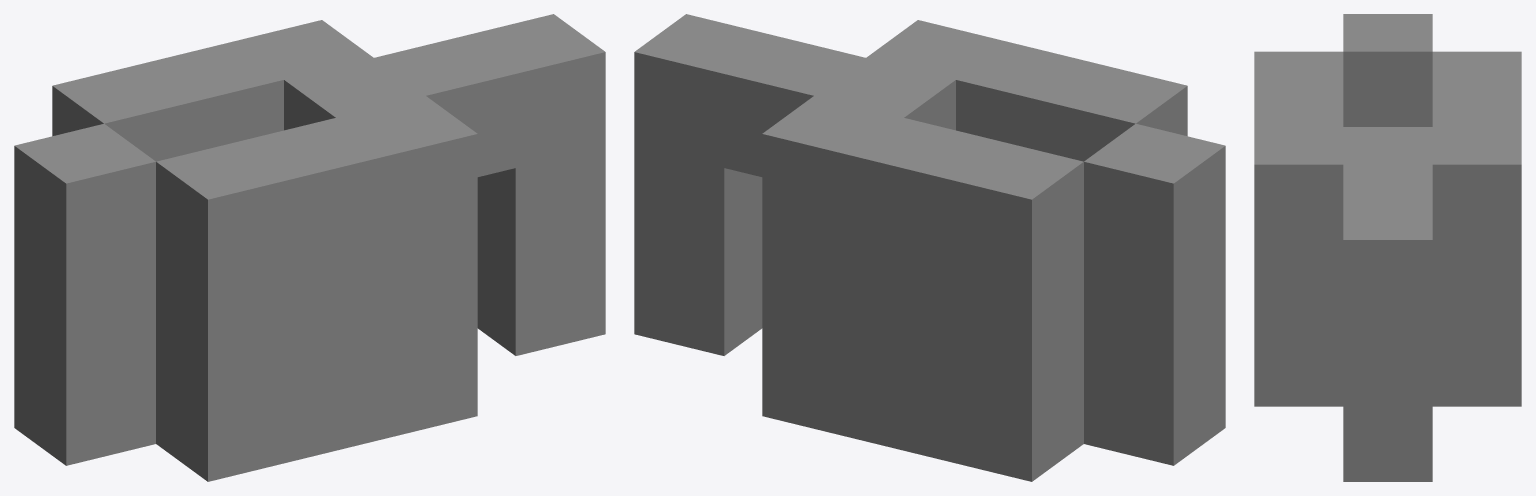
File: Kettle.obj
The picture shows the model from 3 angles, left to right: view 1: azimuth 30°, elevation 25°; view 2: azimuth 150°, elevation 25°; view 3: azimuth 270°, elevation 25°; orthographic projection. The views are drawn at different scales.
Visible parts, largest first — view 1: Kettle; view 2: Kettle; view 3: Kettle.
Boxes of the visible parts, <box> form: Kettle: <box>14,14,605,481</box>; Kettle: <box>634,14,1225,481</box>; Kettle: <box>1254,14,1521,481</box>.
Bounding box in the file's own units: 6 × 3 × 3.
Materials: 1 (1 with a texture image).
